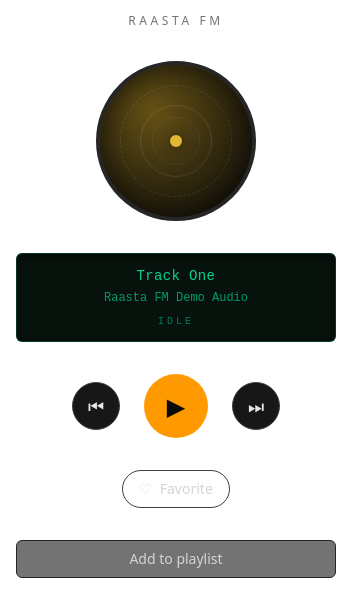
Scenario: PlayerPage › clicking Next changes the current track
The image size is (353, 595).
Click the button named "Next track". click: (256, 406)
box: [232,382,280,430]
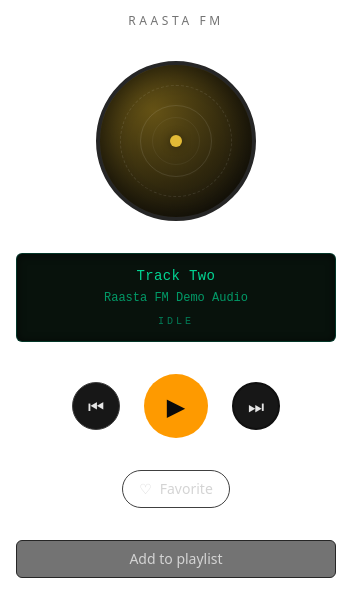
Now the text "Track Two" is shown, box [137,268,215,284]
